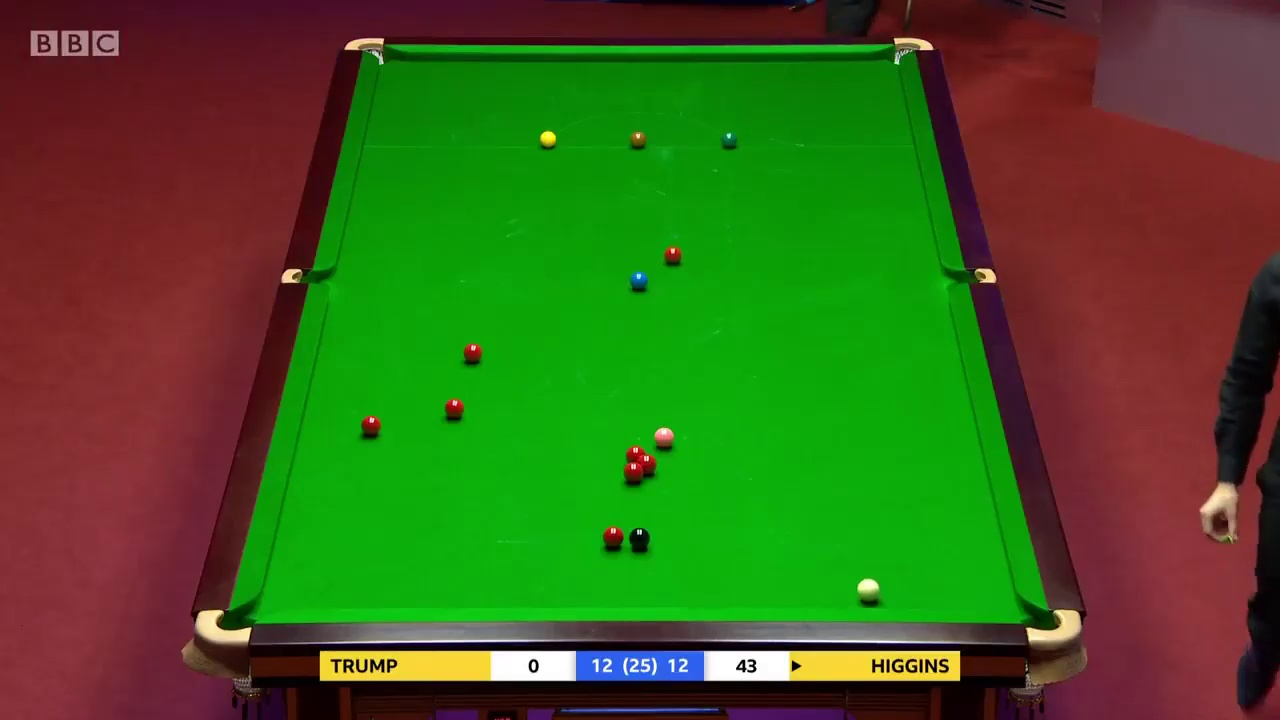ball: (856, 573, 883, 605), (358, 415, 382, 440), (629, 524, 653, 548), (651, 427, 675, 448), (442, 398, 466, 418), (624, 459, 642, 485), (602, 527, 623, 548), (662, 244, 683, 263), (538, 128, 556, 149), (630, 271, 650, 289), (627, 130, 646, 148), (462, 342, 481, 360), (720, 128, 737, 146)
